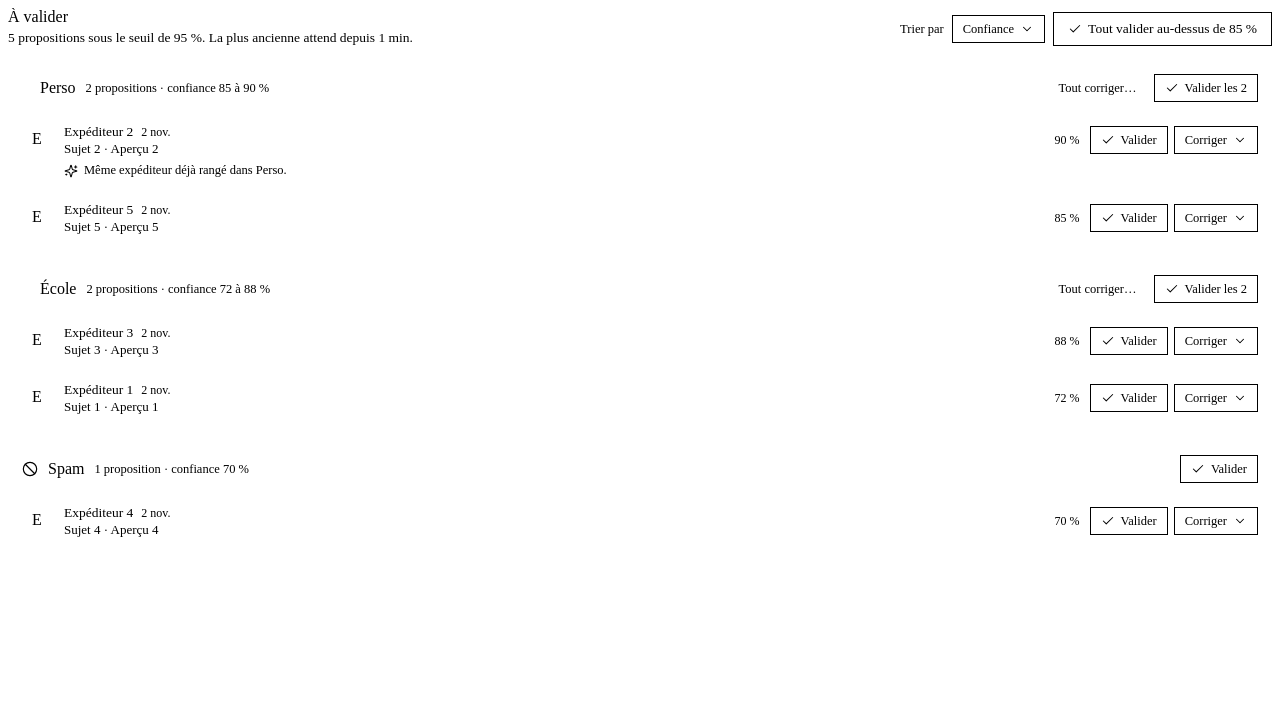
Test: Pending › « Tout valider au-dessus de 85 % » validates only those at 85 % or more
This screenshot has width=1280, height=720.
expect the text "Sujet 1" is shown: met, box [64,399,100,414]
What coordinates should you click on to do the following:
click the button "Tout valider au-dessus de 85 %"
I would click on:
 (1163, 29)
Its box is [1053,12,1272,46].
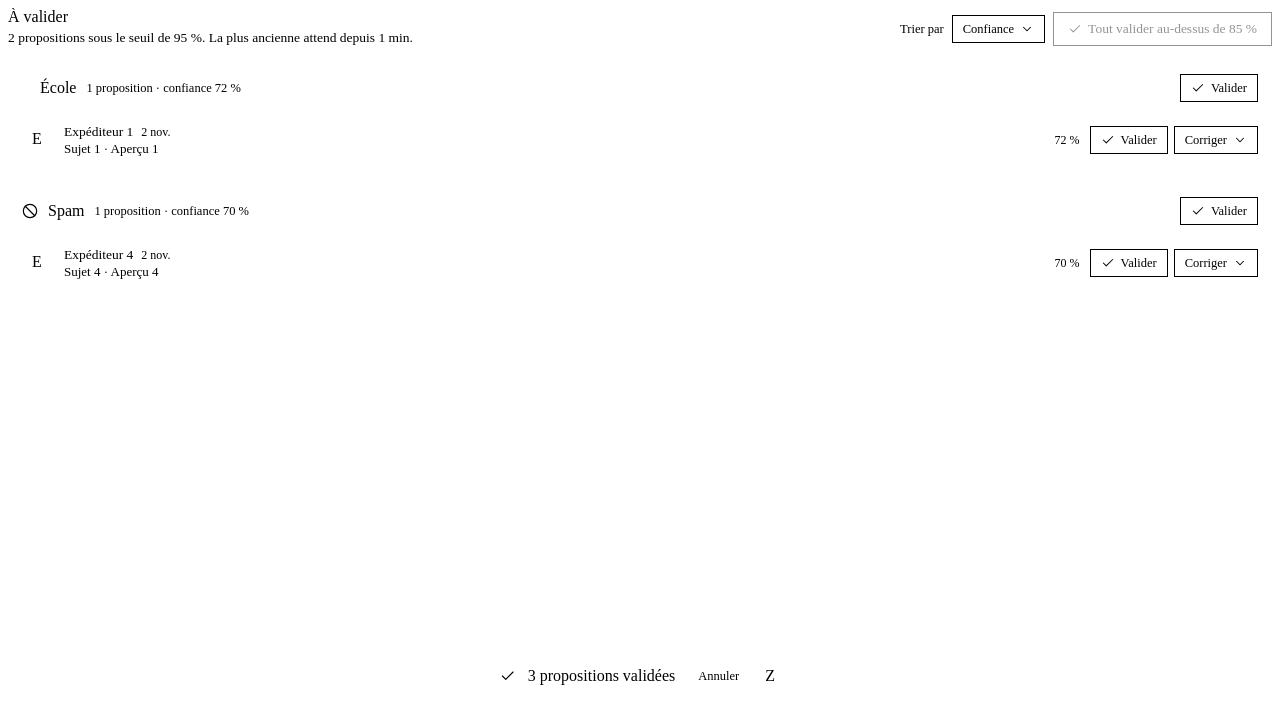
expect the text "Sujet 1" is shown: met, box [64,141,100,156]
expect the text "Sujet 2" is gone: met
